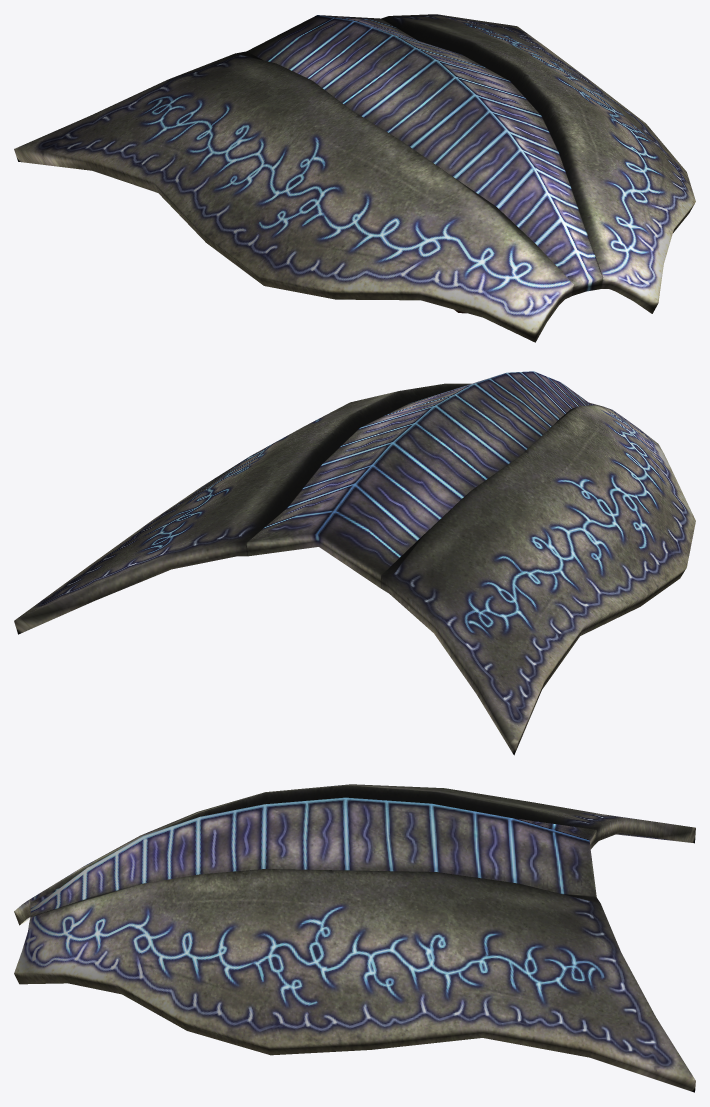
The model's file is SH_Shield_D.FBX.
3 views of the same model, one above another, from view 1: azimuth 30°, elevation 25°; view 2: azimuth 150°, elevation 25°; view 3: azimuth 270°, elevation 25° (orthographic). The views are drawn at different scales.
Visible parts, largest first — view 1: SH_Shield_D; view 2: SH_Shield_D; view 3: SH_Shield_D.
Part boxes in pixels (x1,y1,x2,y2): SH_Shield_D: (14, 14, 695, 342); SH_Shield_D: (14, 371, 695, 755); SH_Shield_D: (14, 784, 695, 1092).
Size of the model in its own units: 62.2 by 24.69 by 70.82.
